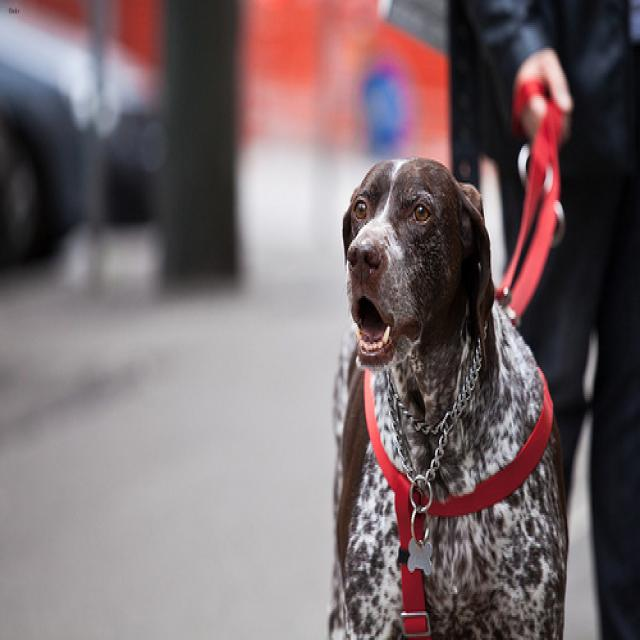dog-german_shorthaired: (321, 148, 577, 636)
